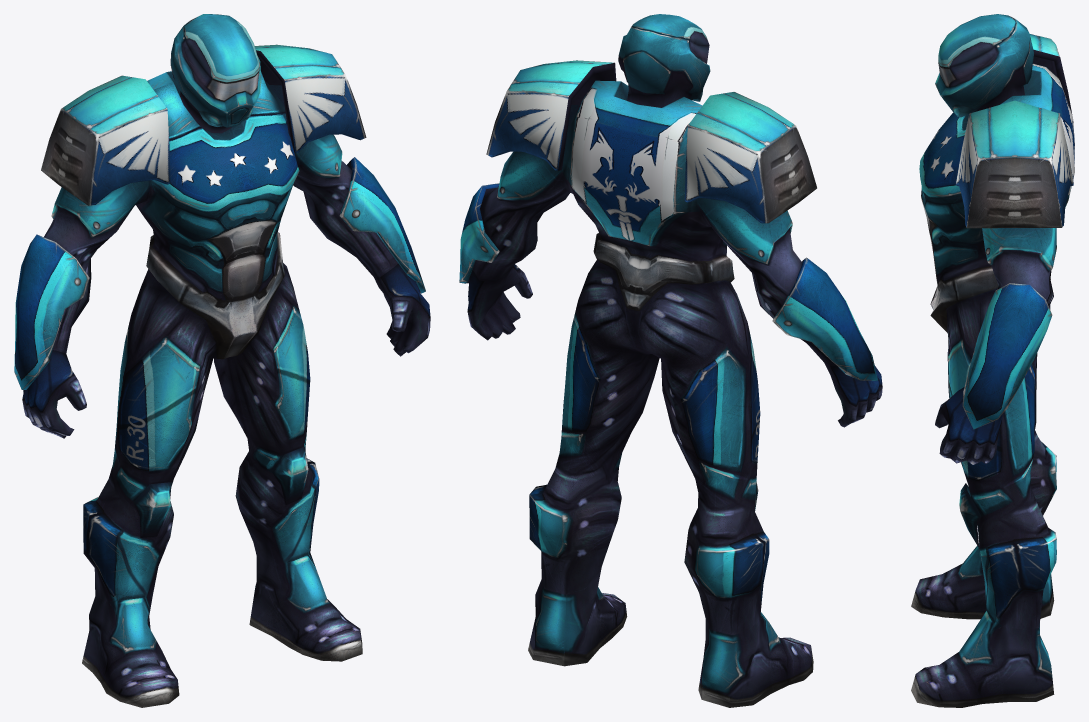
Rendered from player.fbx.
3 views of the same model, side by side, from view 1: azimuth 30°, elevation 25°; view 2: azimuth 150°, elevation 25°; view 3: azimuth 270°, elevation 25° (orthographic). The views are drawn at different scales.
Visible parts, largest first — view 1: model_5; view 2: model_5; view 3: model_5.
Part boxes in pixels (x1=…): model_5: x1=14, y1=14, x2=430, y2=707; model_5: x1=459, y1=14, x2=882, y2=707; model_5: x1=911, y1=14, x2=1074, y2=707.
Size of the model in its own units: 1313 by 1965 by 463.
1 material, 1 textured.
